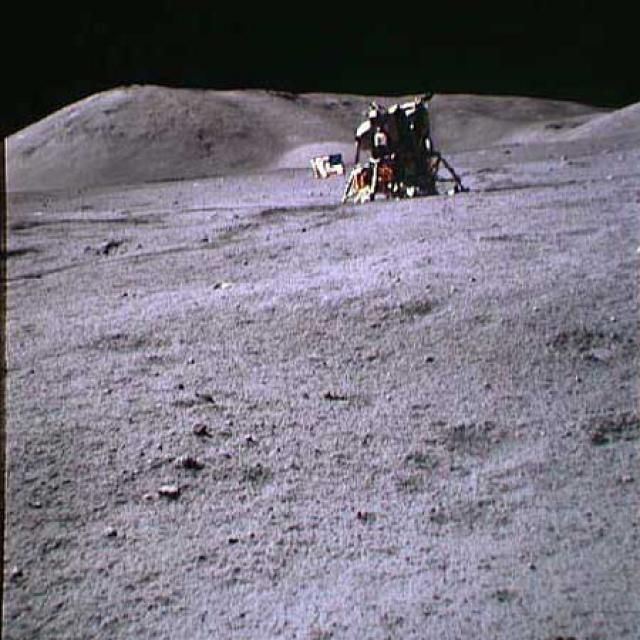artifact: (305, 102, 468, 204)
crater: (82, 236, 139, 258), (5, 244, 50, 258)
rock: (171, 452, 201, 469), (158, 485, 182, 505), (189, 419, 209, 440)
